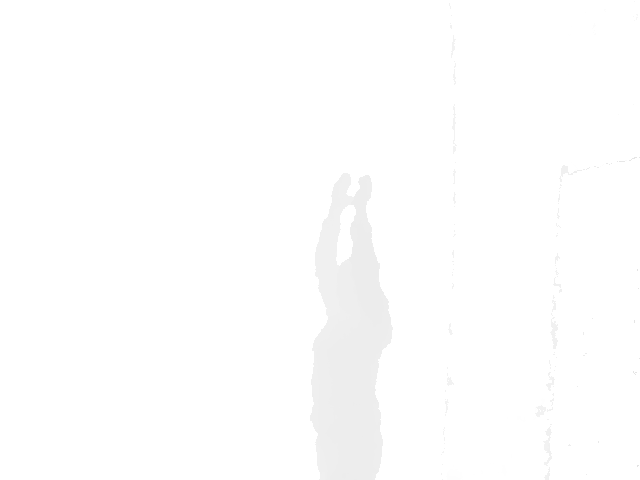hand: (329, 172, 353, 213), (353, 174, 374, 209)
head: (335, 256, 363, 303)
person: (308, 171, 395, 480)
